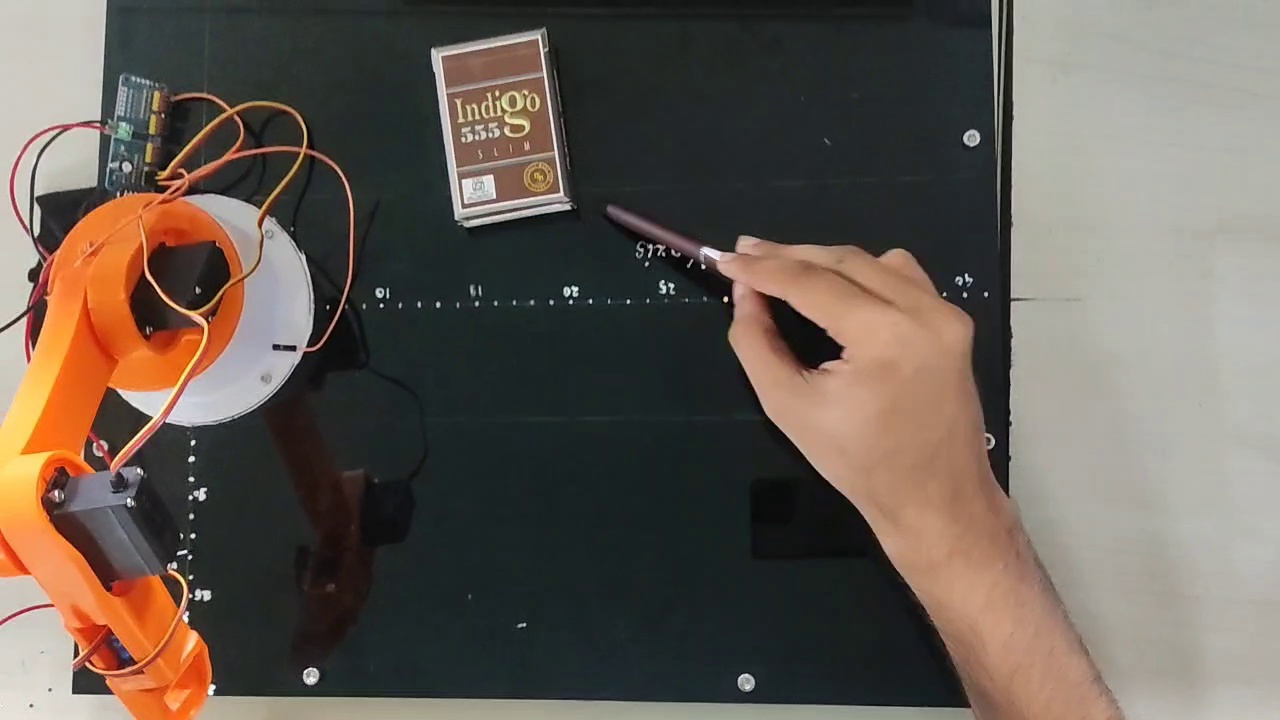BEX: (438, 36, 561, 209)
